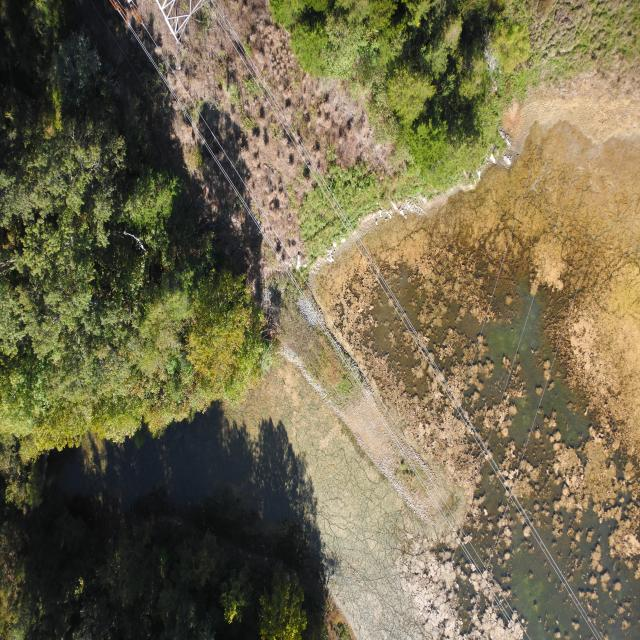Area of Interest: (0, 13, 235, 445), (7, 501, 310, 636), (268, 0, 504, 163)
